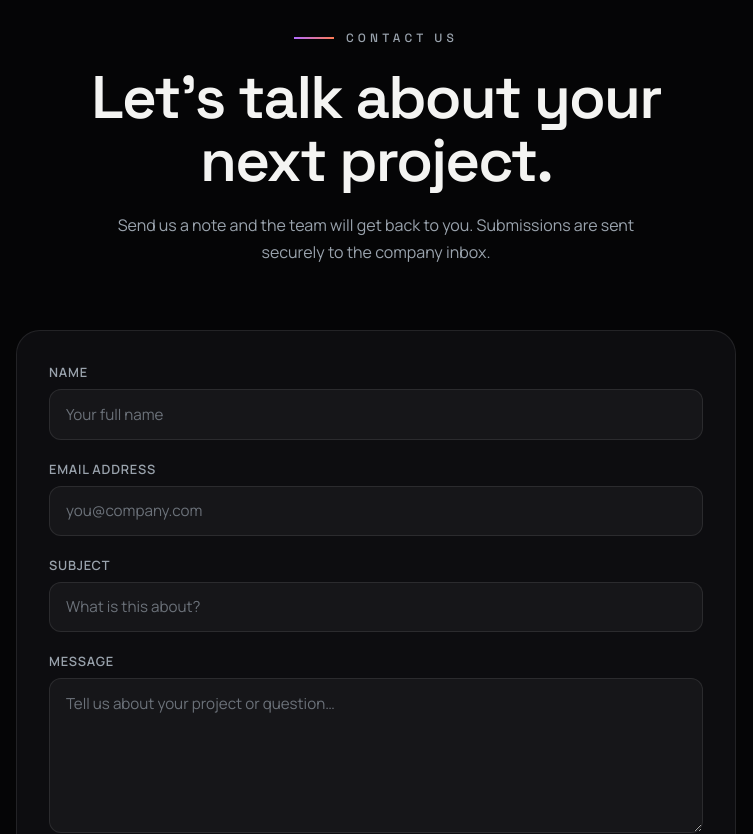
Scenario: ContactUs › rejects invalid email locally before sending
Type "Jane Doe" into the field labelled "Name" at (376, 414), box [49,389,703,440]
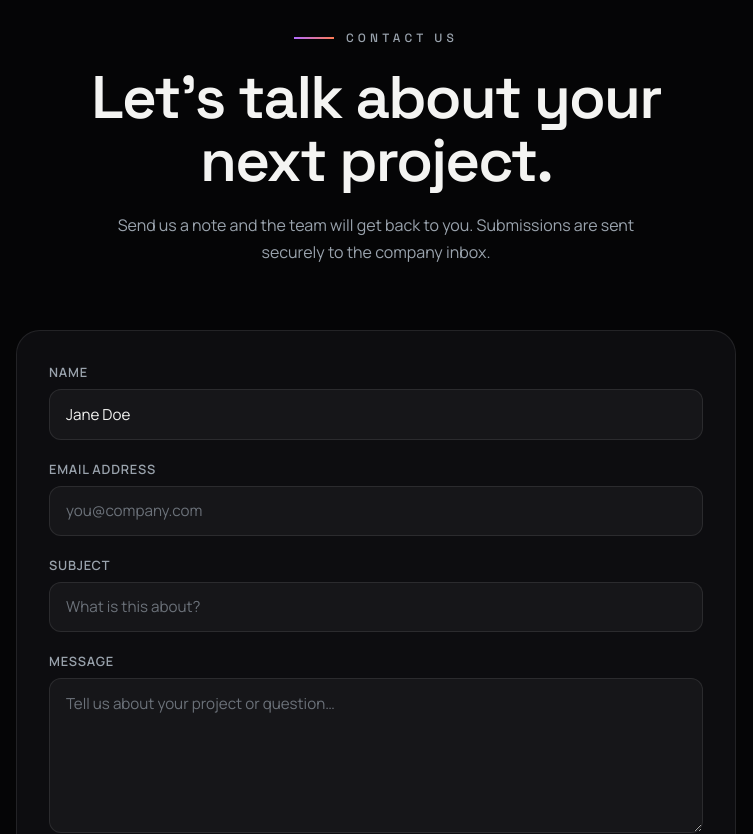
Type "jane@example.com" into the field labelled "Email Address" at (376, 511), box [49,486,703,536]
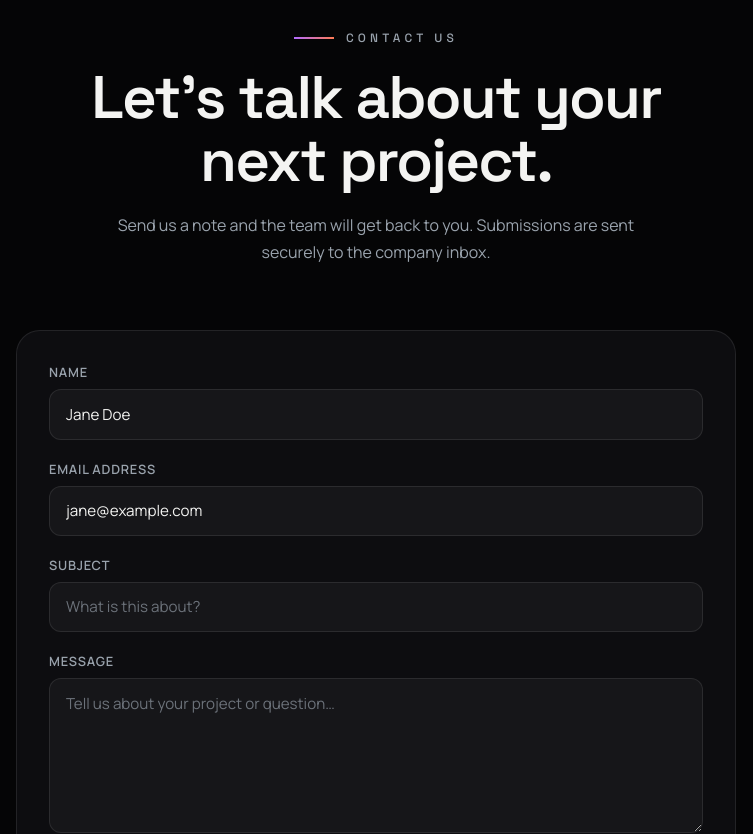
Type "Project inquiry" into the field labelled "Subject" at (376, 607), box [49,582,703,632]
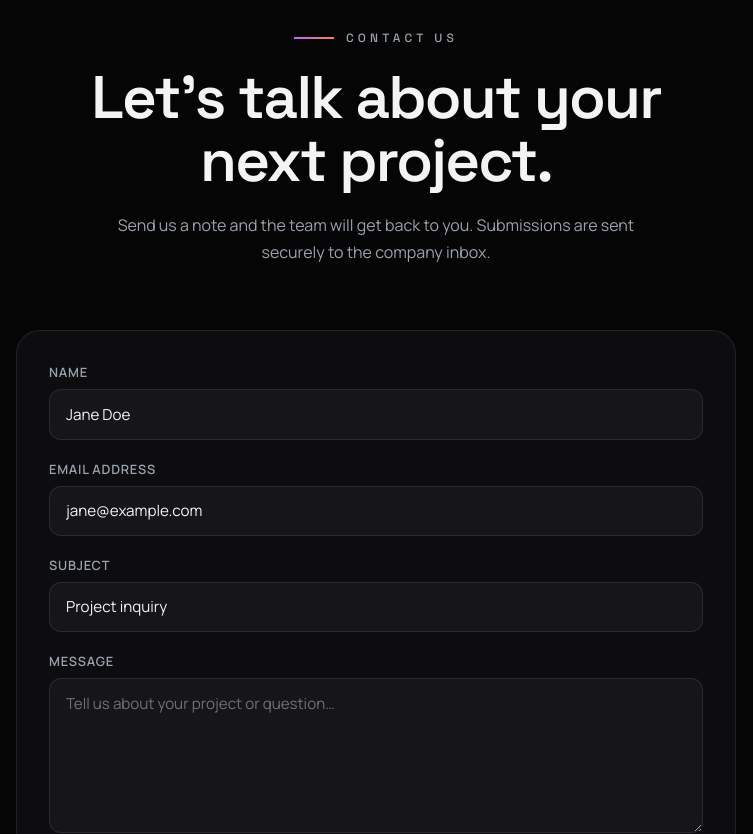
Type "Hello, we would like to talk about a new website." into the text box labelled "Message" at (376, 756), box [49,678,703,833]
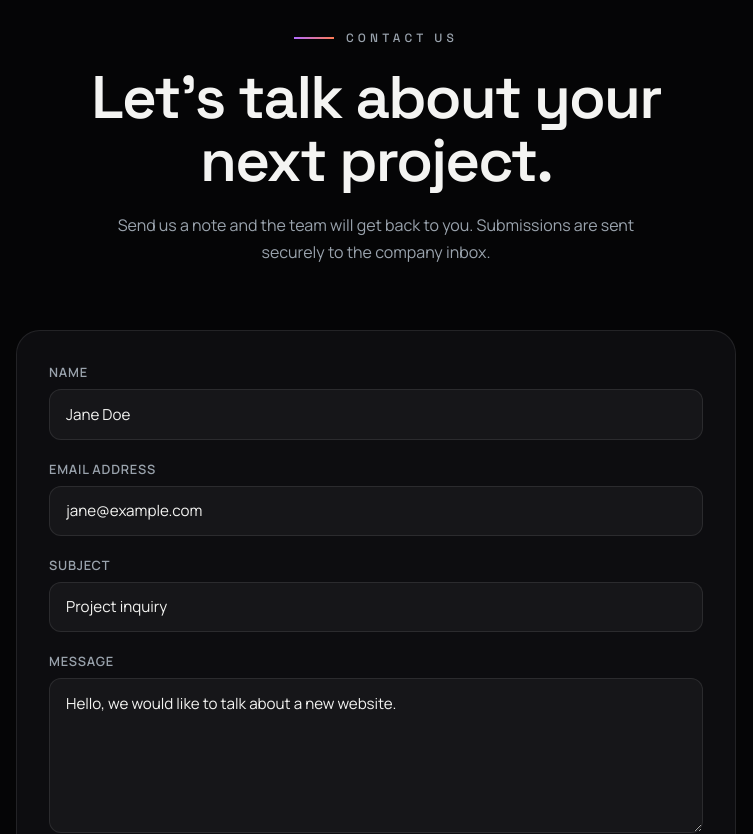
Replace the text in the field labelled "Email Address" with "nope" at (376, 511), box [49,486,703,536]
(page scrolled)
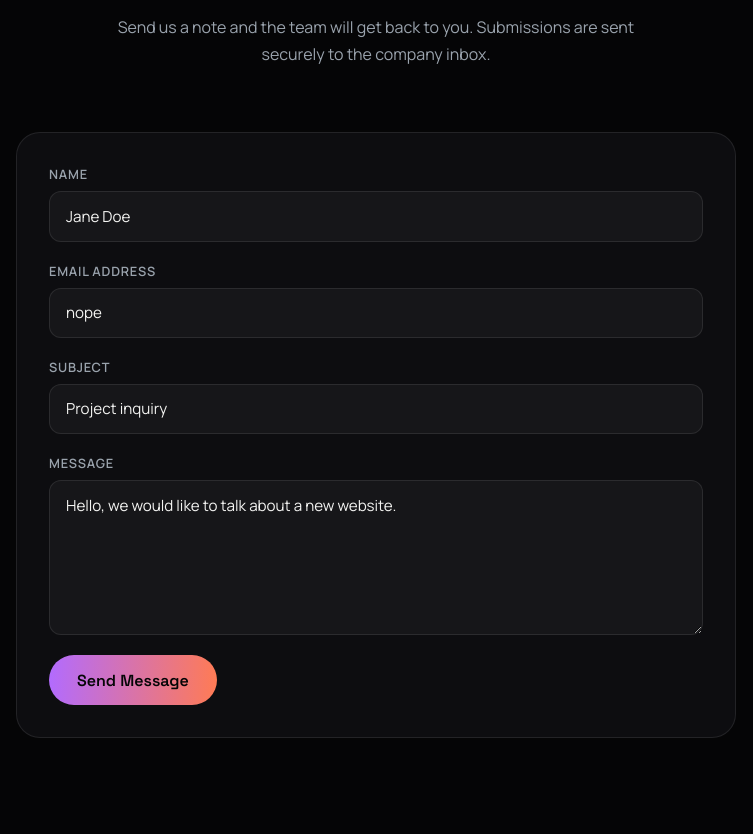
Click the button "Send Message" at (133, 680), box [49,655,217,705]
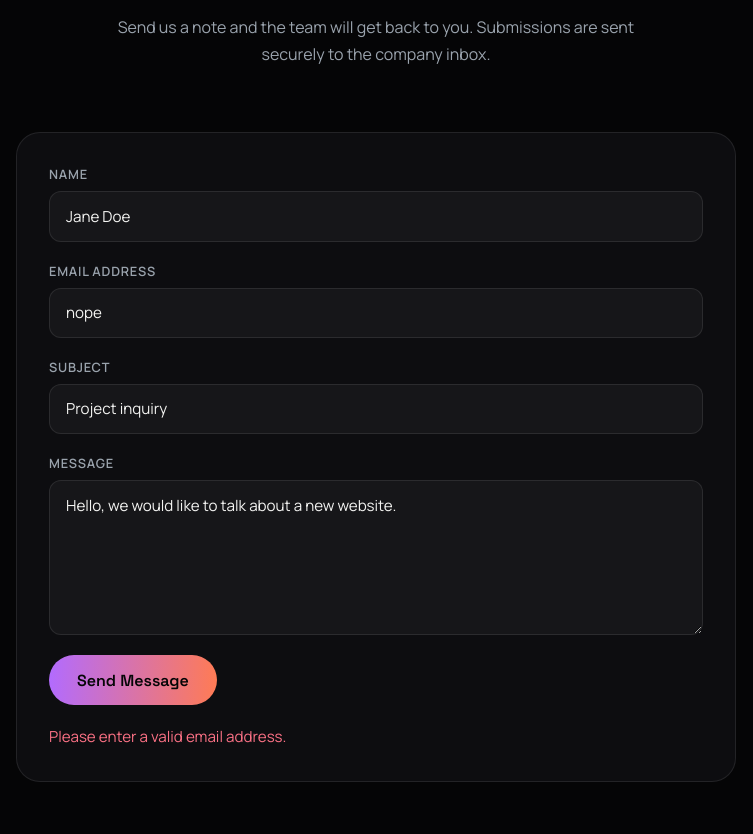
Result: the text "Please enter a valid email address." is shown at [49,726,286,747]
